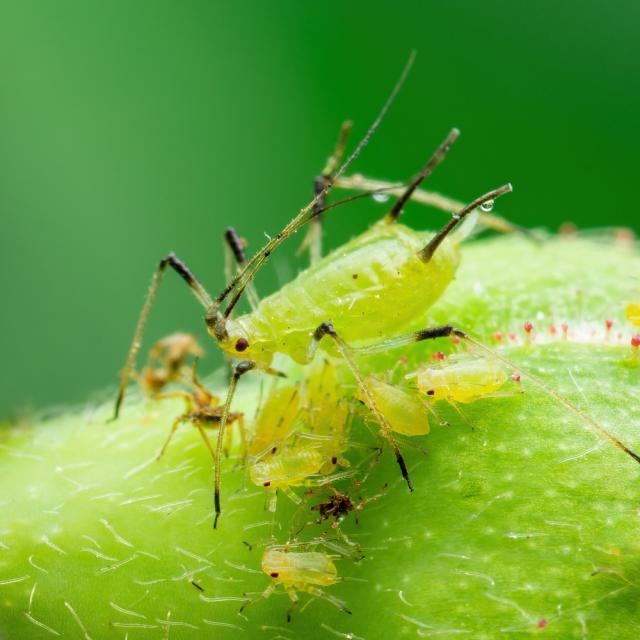Aphids: (101, 24, 640, 629)
